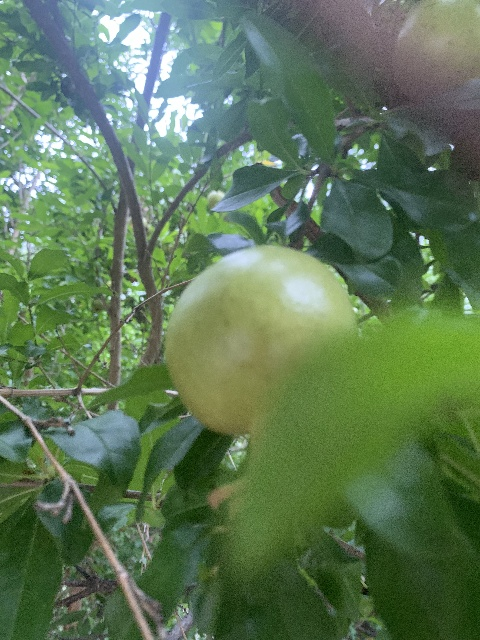mid-growth: (162, 244, 359, 511)
